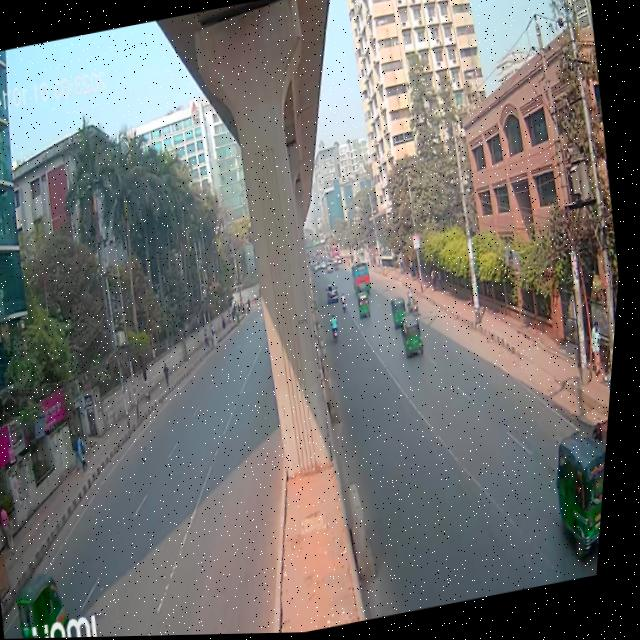cng: (542, 415, 615, 568), (16, 557, 87, 639), (401, 312, 432, 364), (391, 295, 416, 334), (358, 288, 379, 326)
